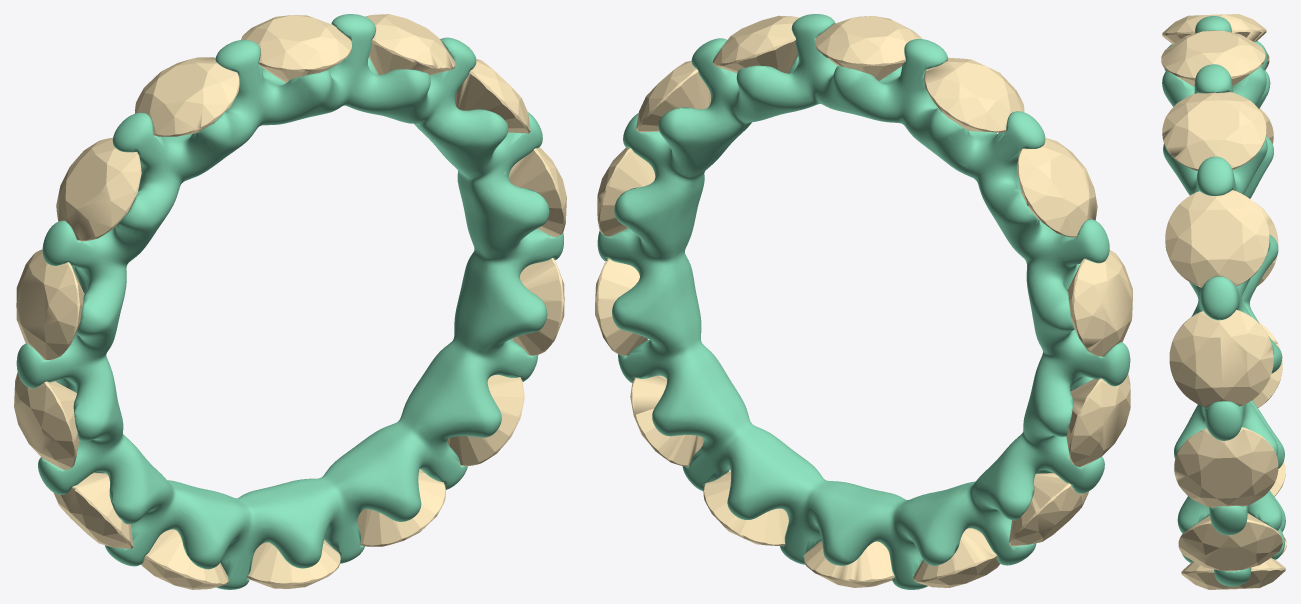
The picture shows the model from 3 angles, left to right: view 1: azimuth 30°, elevation 25°; view 2: azimuth 150°, elevation 25°; view 3: azimuth 270°, elevation 25°; orthographic projection. The views are drawn at different scales.
Visible parts, largest first — view 1: Metal02, Diamond_Round.001, Diamond_Round, Diamond_Round.002, Diamond_Round.013, Diamond_Round.003, Diamond_Round.012, Diamond_Round.004, Diamond_Round.011, Diamond_Round.008, Diamond_Round.007, Diamond_Round.005 (+3 smaller); view 2: Metal02, Diamond_Round.001, Diamond_Round, Diamond_Round.002, Diamond_Round.013, Diamond_Round.003, Diamond_Round.012, Diamond_Round.004, Diamond_Round.008, Diamond_Round.011, Diamond_Round.005, Diamond_Round.007 (+3 smaller); view 3: Metal02, Diamond_Round.010, Diamond_Round.011, Diamond_Round.009, Diamond_Round.012, Diamond_Round.008, Diamond_Round.013, Diamond_Round.007, Diamond_Round, Diamond_Round.004, Diamond_Round.003, Diamond_Round.005 (+1 smaller).
Boxes of the visible parts, left/top/right/bottom form: Metal02: left=16, top=14, right=563, bottom=589; Diamond_Round.001: left=56, top=137, right=141, bottom=241; Diamond_Round: left=135, top=57, right=239, bottom=136; Diamond_Round.002: left=16, top=249, right=84, bottom=359; Diamond_Round.013: left=241, top=15, right=351, bottom=82; Diamond_Round.003: left=14, top=372, right=79, bottom=469; Diamond_Round.012: left=365, top=14, right=455, bottom=75; Diamond_Round.004: left=54, top=472, right=133, bottom=548; Diamond_Round.011: left=455, top=59, right=530, bottom=133; Diamond_Round.008: left=447, top=374, right=524, bottom=466; Diamond_Round.007: left=357, top=469, right=445, bottom=546; Diamond_Round.005: left=141, top=529, right=228, bottom=589; Metal02: left=597, top=14, right=1130, bottom=589; Diamond_Round.001: left=1017, top=138, right=1097, bottom=237; Diamond_Round: left=924, top=57, right=1024, bottom=132; Diamond_Round.002: left=1067, top=250, right=1132, bottom=356; Diamond_Round.013: left=815, top=16, right=922, bottom=80; Diamond_Round.003: left=1066, top=374, right=1130, bottom=466; Diamond_Round.012: left=712, top=15, right=799, bottom=73; Diamond_Round.004: left=1009, top=473, right=1088, bottom=546; Diamond_Round.008: left=630, top=375, right=703, bottom=466; Diamond_Round.011: left=636, top=60, right=710, bottom=132; Diamond_Round.005: left=913, top=528, right=999, bottom=587; Diamond_Round.007: left=703, top=471, right=788, bottom=546; Metal02: left=1162, top=16, right=1285, bottom=586; Diamond_Round.010: left=1169, top=309, right=1273, bottom=407; Diamond_Round.011: left=1165, top=190, right=1269, bottom=287; Diamond_Round.009: left=1174, top=427, right=1278, bottom=507; Diamond_Round.012: left=1162, top=92, right=1266, bottom=170; Diamond_Round.008: left=1178, top=513, right=1282, bottom=571; Diamond_Round.013: left=1161, top=30, right=1265, bottom=86; Diamond_Round.007: left=1181, top=558, right=1285, bottom=589; Diamond_Round: left=1162, top=14, right=1266, bottom=44; Diamond_Round.004: left=1196, top=322, right=1282, bottom=407; Diamond_Round.003: left=1253, top=201, right=1278, bottom=286; Diamond_Round.005: left=1270, top=461, right=1285, bottom=496.
Size of the model in its own units: 24.04 by 23.74 by 5.18.
